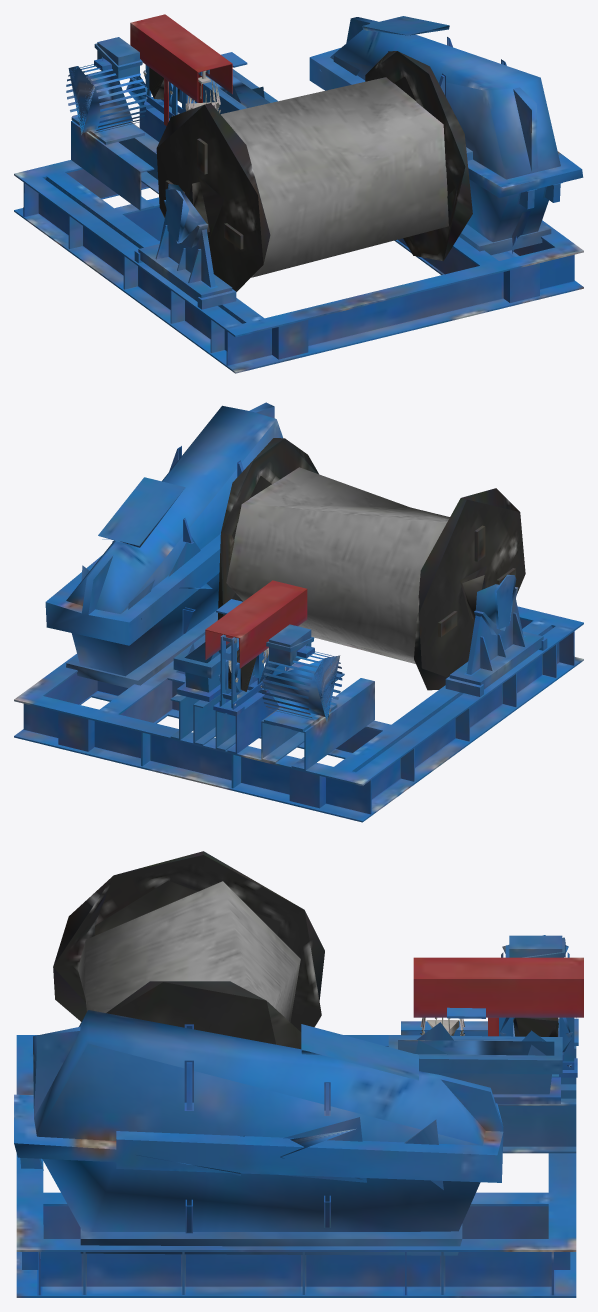
File: winch.glb
3 views of the same model, one above another, from view 1: azimuth 30°, elevation 25°; view 2: azimuth 150°, elevation 25°; view 3: azimuth 270°, elevation 25° (orthographic). The views are drawn at different scales.
Parts seen in each view (by area): view 1: Winch_LOD0_Low_0; view 2: Winch_LOD0_Low_0; view 3: Winch_LOD0_Low_0.
Boxes of the visible parts, x1=… form: Winch_LOD0_Low_0: x1=14, y1=14, x2=583, y2=373; Winch_LOD0_Low_0: x1=14, y1=402, x2=583, y2=822; Winch_LOD0_Low_0: x1=14, y1=851, x2=583, y2=1297.
Bounding box in the file's own units: 1.7 × 0.9478 × 1.89.
1 material, 1 textured.
